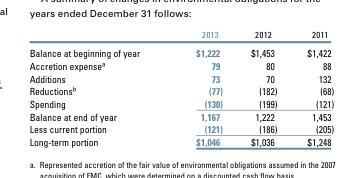table: (28, 28, 333, 147)
table column: (28, 28, 167, 147), (167, 28, 236, 147), (236, 28, 291, 147), (291, 28, 333, 147)
table column header: (28, 28, 333, 43)
table row: (28, 28, 333, 43), (28, 43, 333, 58), (28, 58, 333, 71), (28, 83, 333, 96), (28, 96, 333, 109), (28, 109, 333, 122), (28, 134, 333, 147), (28, 71, 333, 83), (28, 122, 333, 134)
